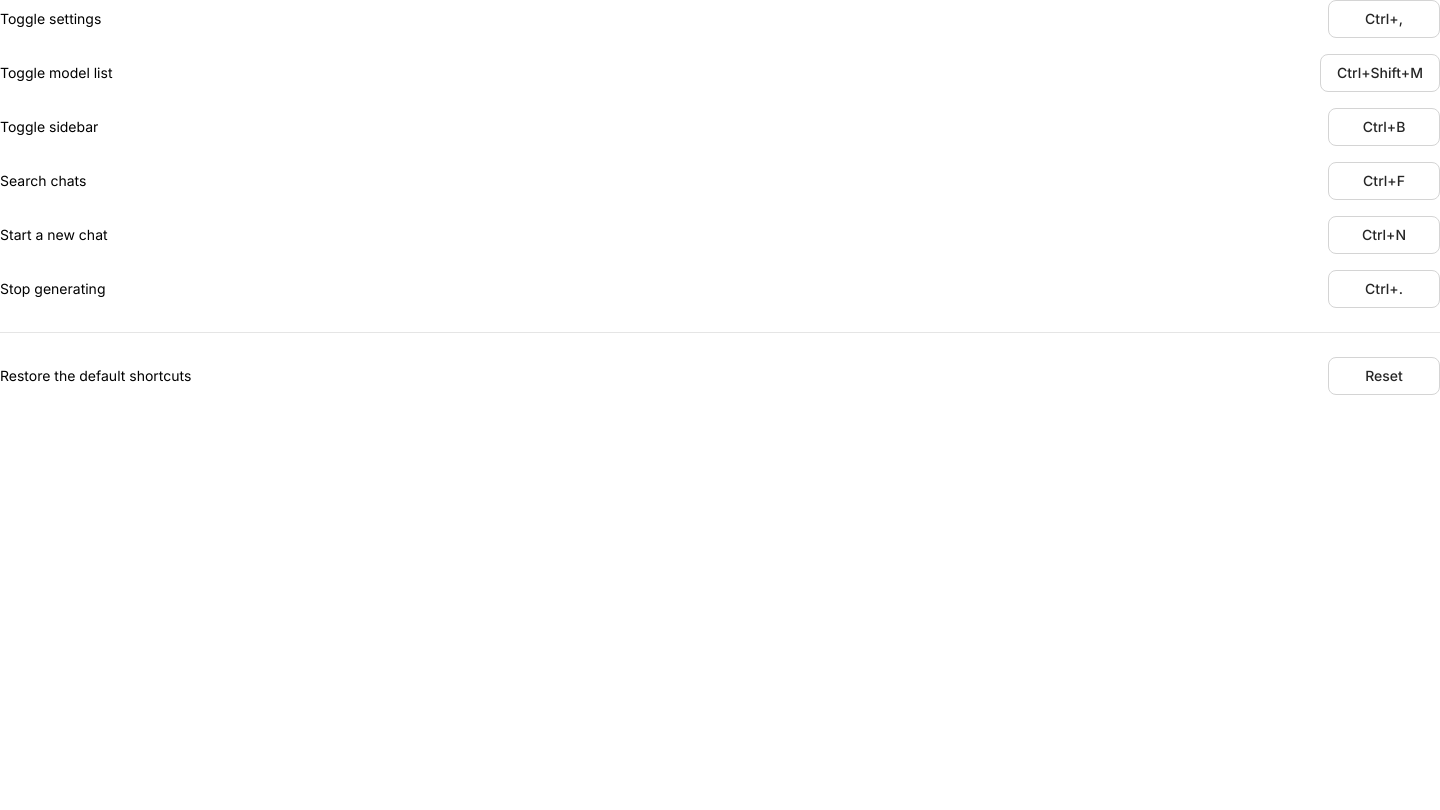
Test: ShortcutsSettings › restores the defaults once the reset is confirmed
Click the button "Reset".
click(1384, 376)  # box [1328,357,1439,395]
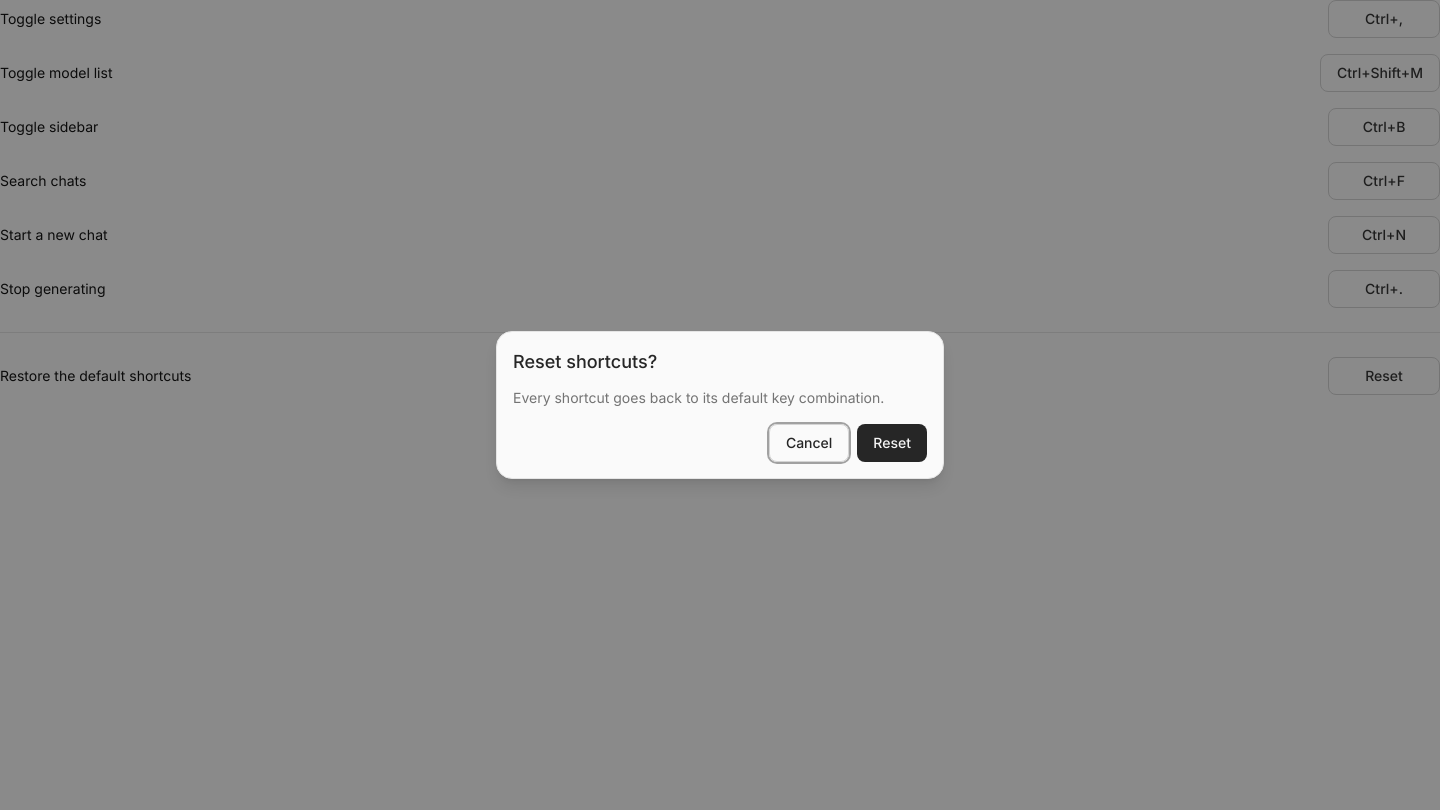
Click the button "Reset".
click(892, 443)  # box [857,424,927,462]
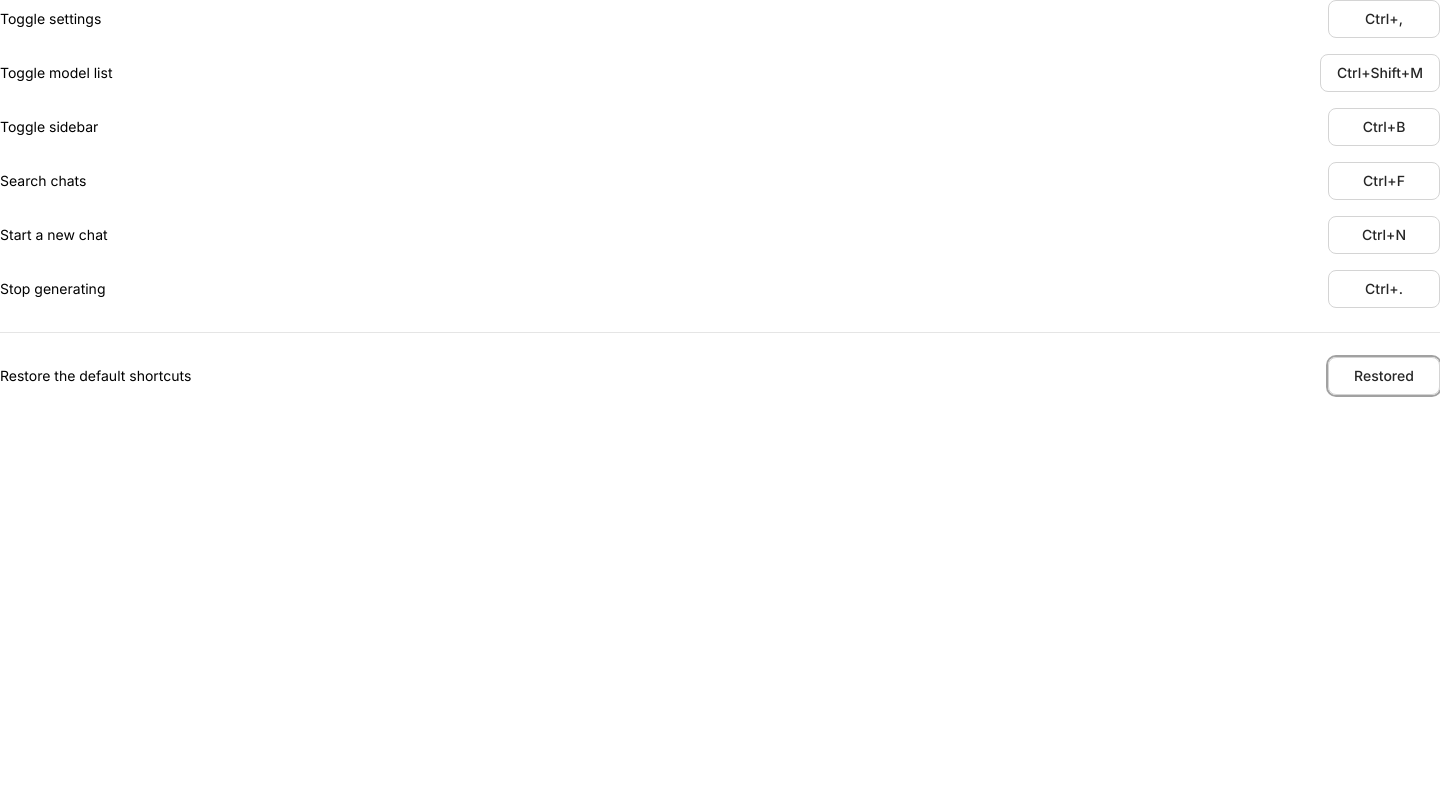
Expected: the dialog is gone
Expected: the button "Restored" is shown, [1328,357,1439,395]
